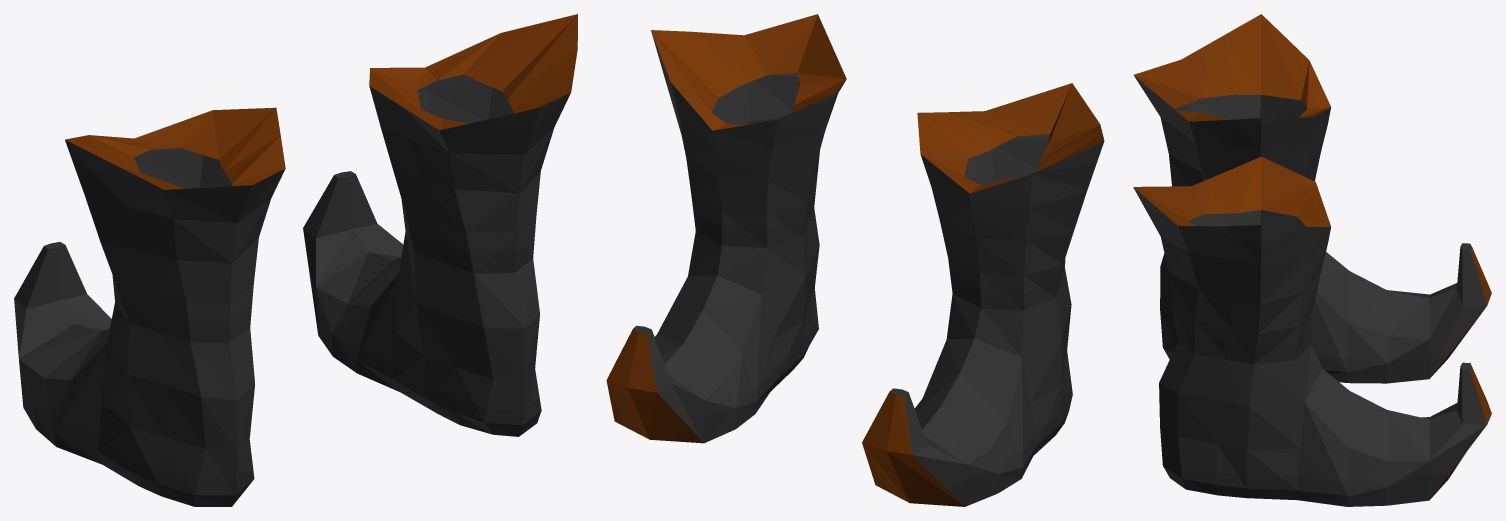
The model's file is CharSkyKid_Feet_Witch.glb.
3 renders of one model, left to right at view 1: azimuth 30°, elevation 25°; view 2: azimuth 150°, elevation 25°; view 3: azimuth 270°, elevation 25°, orthographic. The views are drawn at different scales.
Parts seen in each view (by area): view 1: CharSkyKid_Feet_Witch; view 2: CharSkyKid_Feet_Witch; view 3: CharSkyKid_Feet_Witch.
Boxes of the visible parts, box(x1,y1,x2,y2) form: CharSkyKid_Feet_Witch: box(14, 14, 577, 506); CharSkyKid_Feet_Witch: box(606, 14, 1104, 506); CharSkyKid_Feet_Witch: box(1133, 14, 1491, 506).
Bounding box in the file's own units: 3.34 × 2.21 × 2.4.
1 material, 1 textured.
